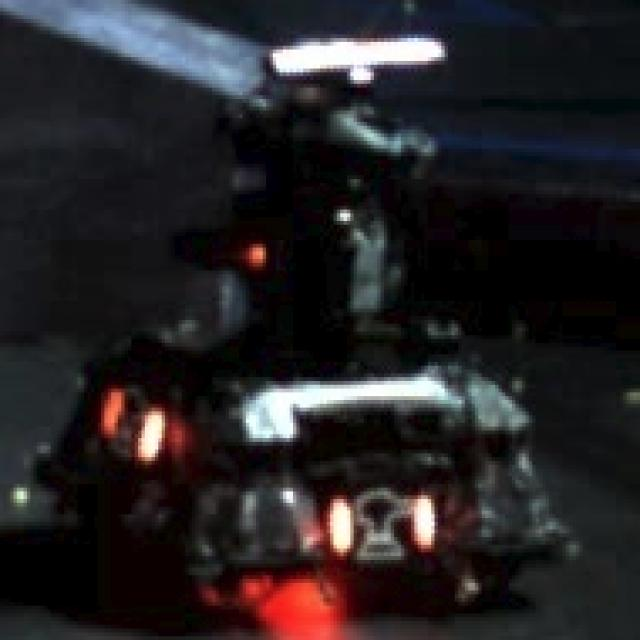Rs: (323, 492, 438, 556), (98, 385, 162, 465)
